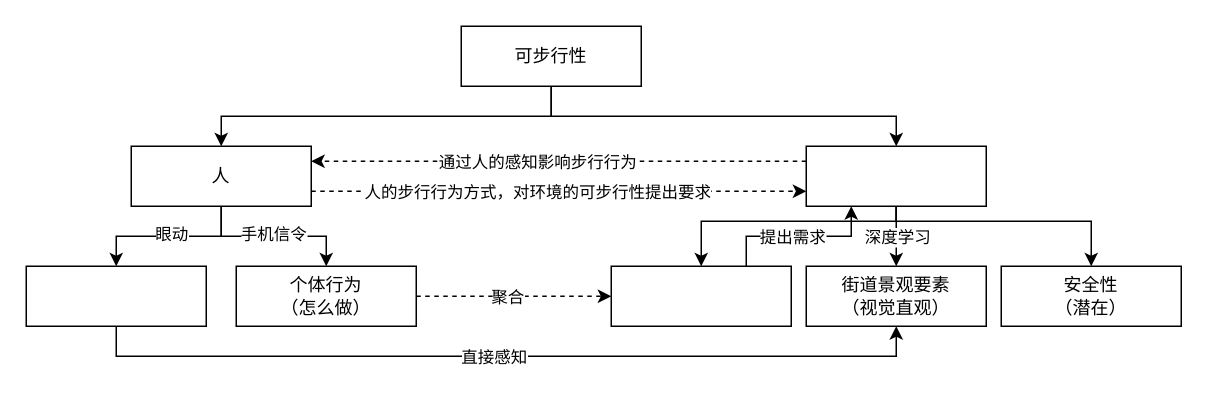
This 1208x395 diagram has some shape labels left out. The shapes that lost their labels are listed below. From the top down, each one's centre as x and y in pixels, then its label:
(895,175): 步行环境
(115,295): 主观感知 （怎么认为）
(700,295): 人流量 （人的环境）
